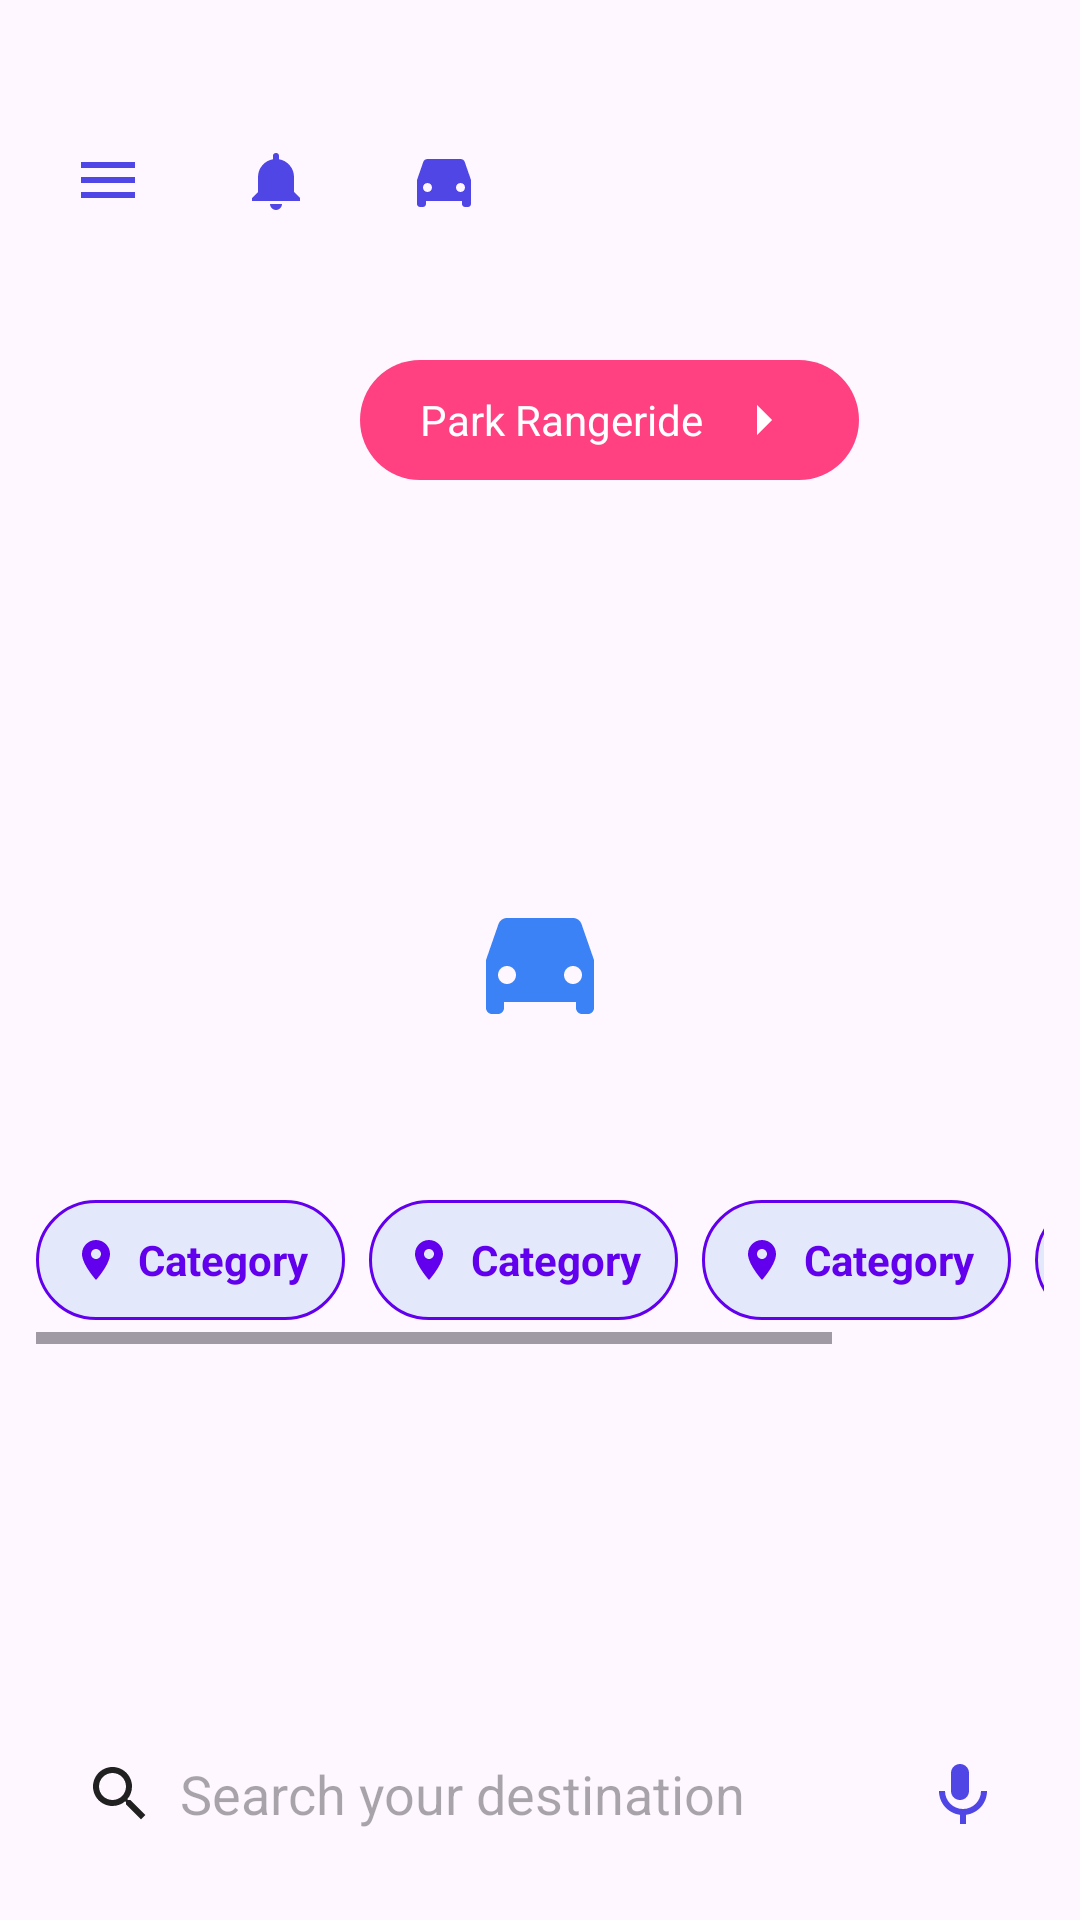

Point at icon controls on the screen. Image size 1080px×1920px, points as [x,y].
Car: [444,183], [540,966]
Menu: [108,180]
Notifications: [276,181]
